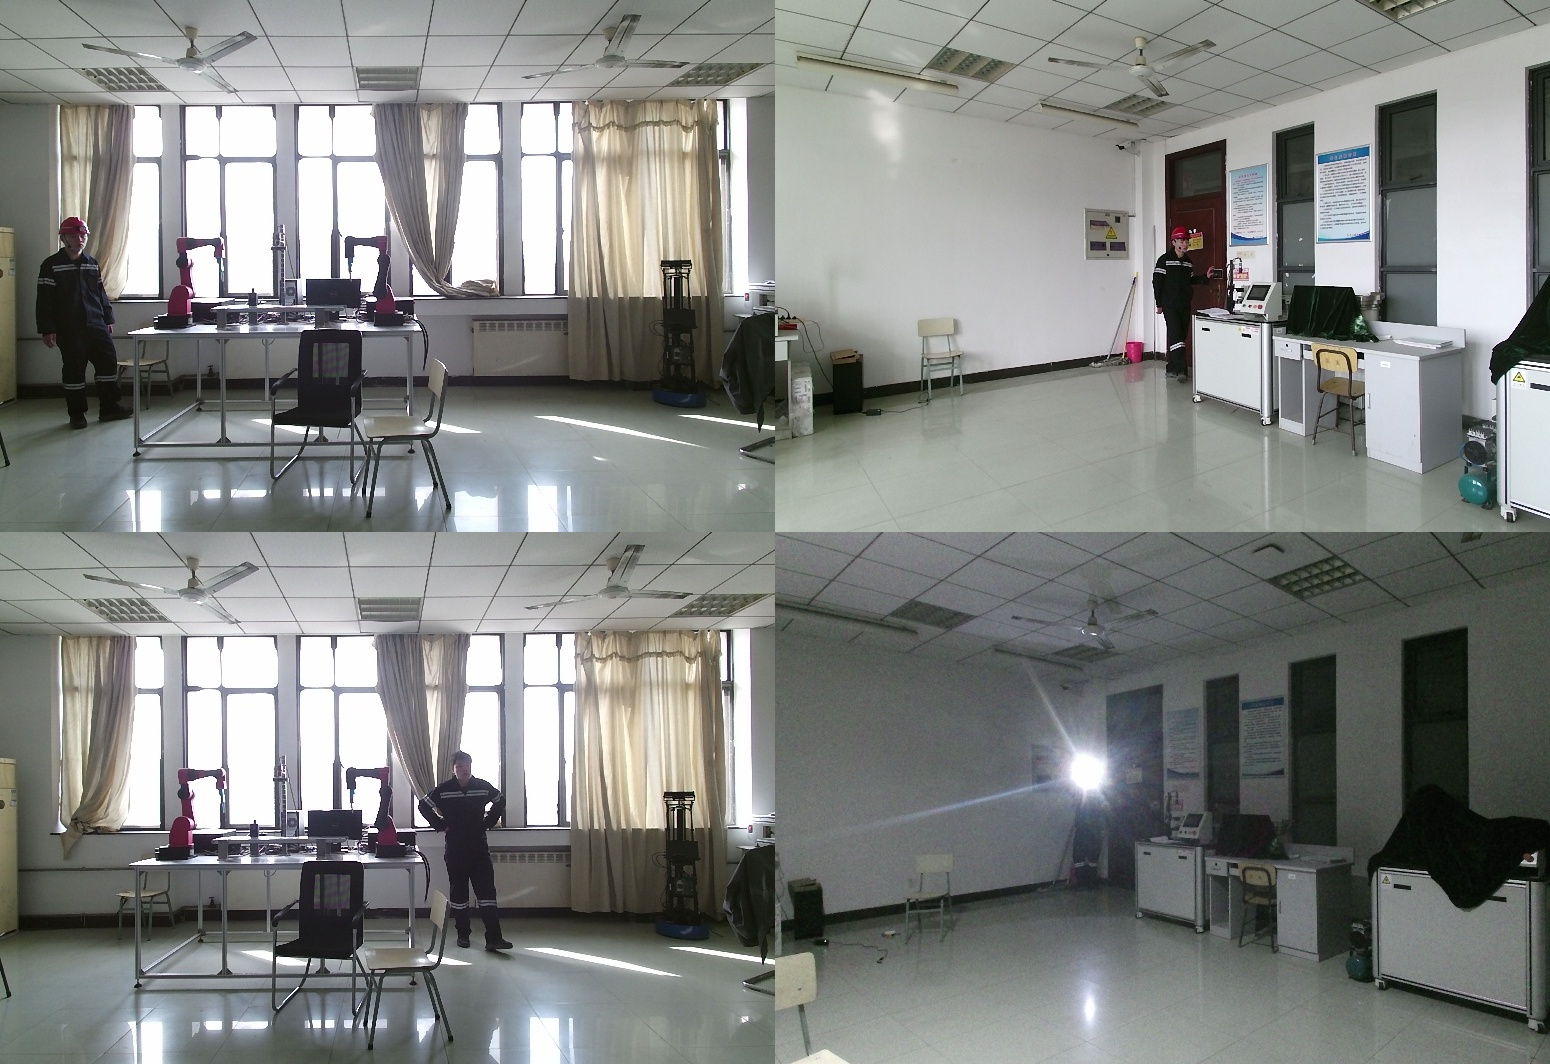person: (31, 219, 134, 429), (420, 751, 515, 957), (1153, 228, 1211, 386), (1062, 767, 1108, 894)
